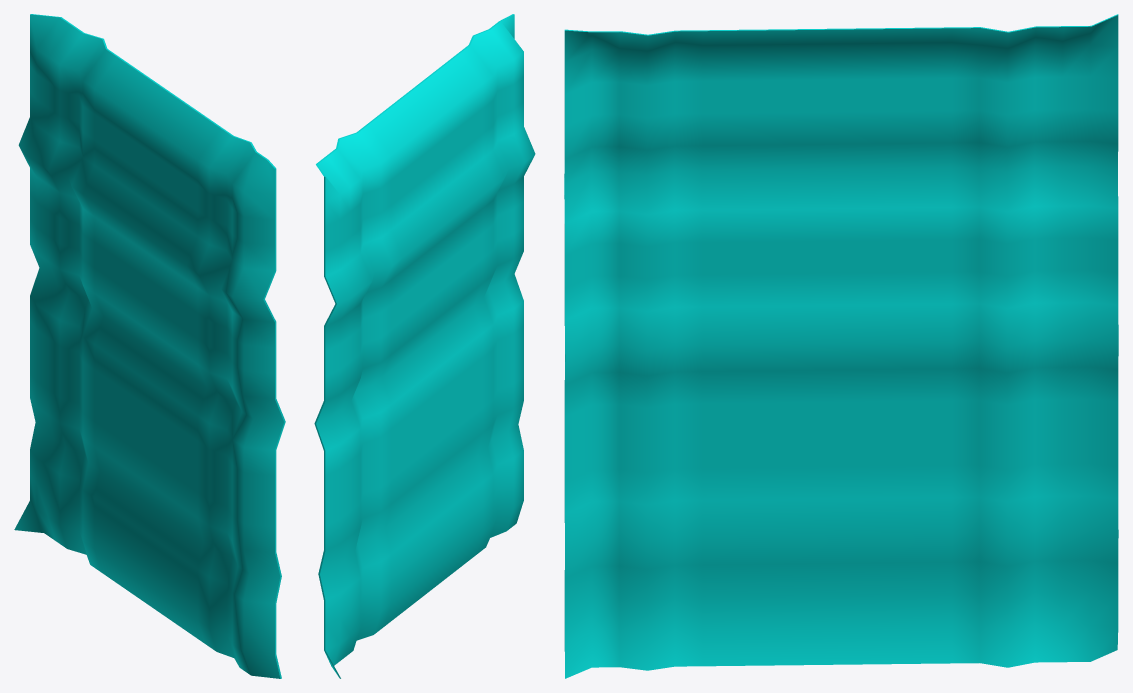
File: hoja_papel.fbx
The picture shows the model from 3 angles, left to right: view 1: azimuth 30°, elevation 25°; view 2: azimuth 150°, elevation 25°; view 3: azimuth 270°, elevation 25°; orthographic projection. The views are drawn at different scales.
Visible parts, largest first — view 1: pPlane1; view 2: pPlane1; view 3: pPlane1.
Boxes of the visible parts, box(x1,y1,x2,y2) form: pPlane1: box(14, 14, 285, 678); pPlane1: box(314, 14, 535, 678); pPlane1: box(564, 14, 1118, 678).
Bounding box in the file's own units: 2.99 × 27.8 × 21.66.
